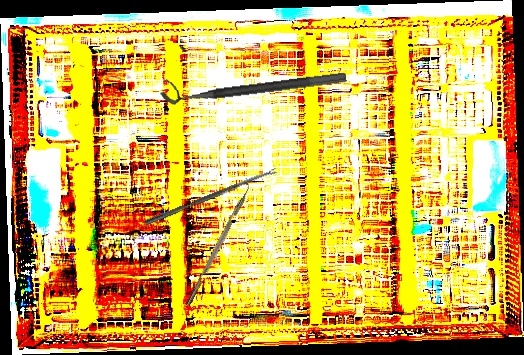Chopper: (179, 177, 256, 307)
Fixation Ring: (158, 56, 347, 107)
Surgical Spoon: (144, 167, 278, 227)
